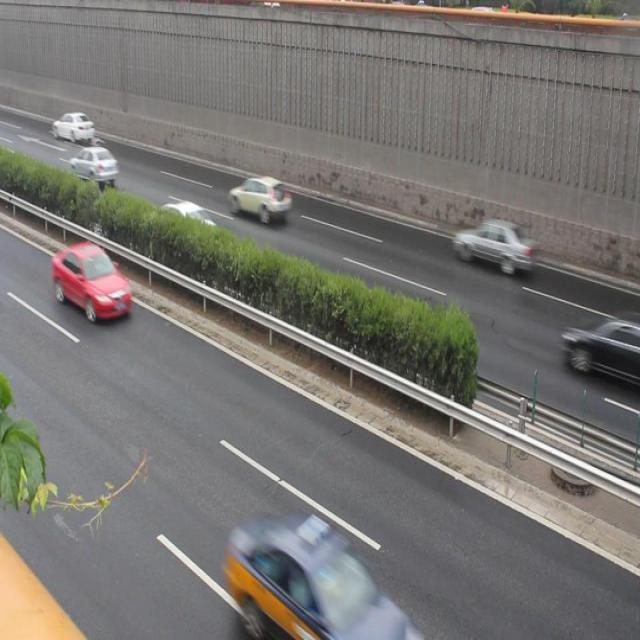car: (229, 519, 403, 640), (562, 314, 640, 391), (53, 242, 129, 320), (453, 217, 536, 276), (151, 200, 216, 255), (228, 173, 291, 226), (70, 145, 118, 184)
